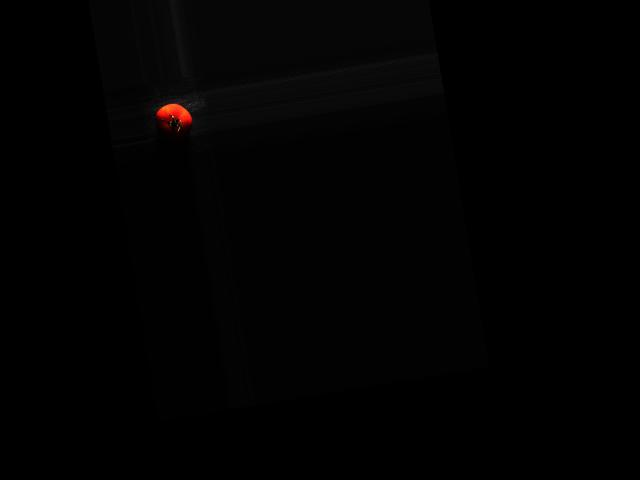tomato: (152, 100, 194, 143)
